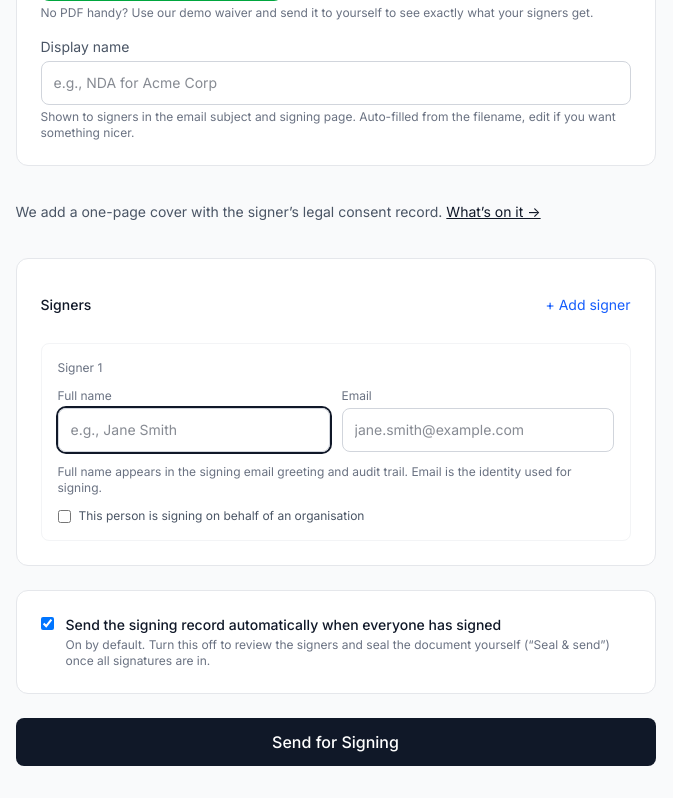
Scenario: CreateEnvelopePage — cover-page disclosure demoted (F-44.1 / AC-261) › collapse and re-expand keeps routing through the once-rail (no plain-channel leak)
(page scrolled)
Click the button "What’s on it →" at (493, 212), box left=446, top=190, right=541, bottom=234
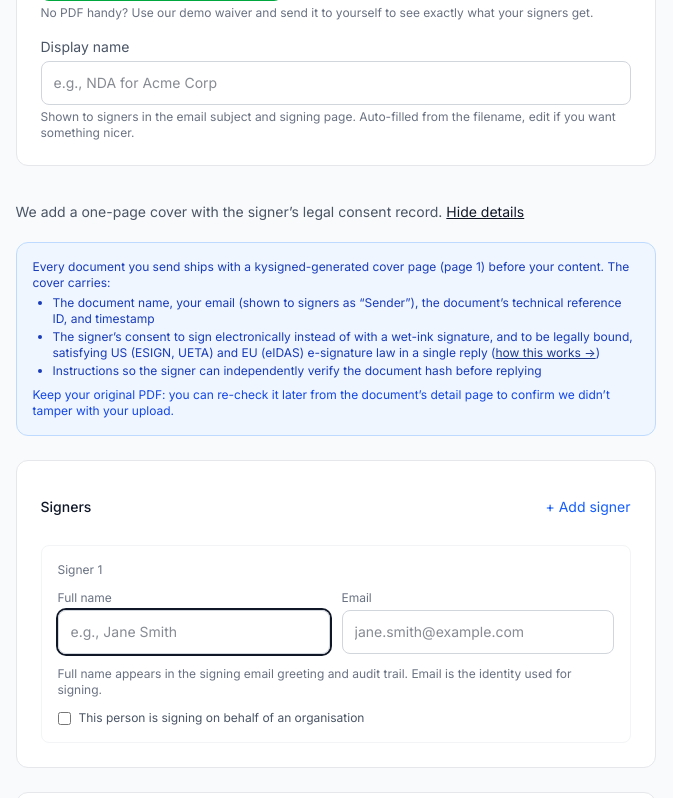
# Collapsed again: the affordance re-renders (aria-expanded false path).
Click the button with test id "cover-disclosure-toggle" at (485, 212), box left=446, top=190, right=524, bottom=234
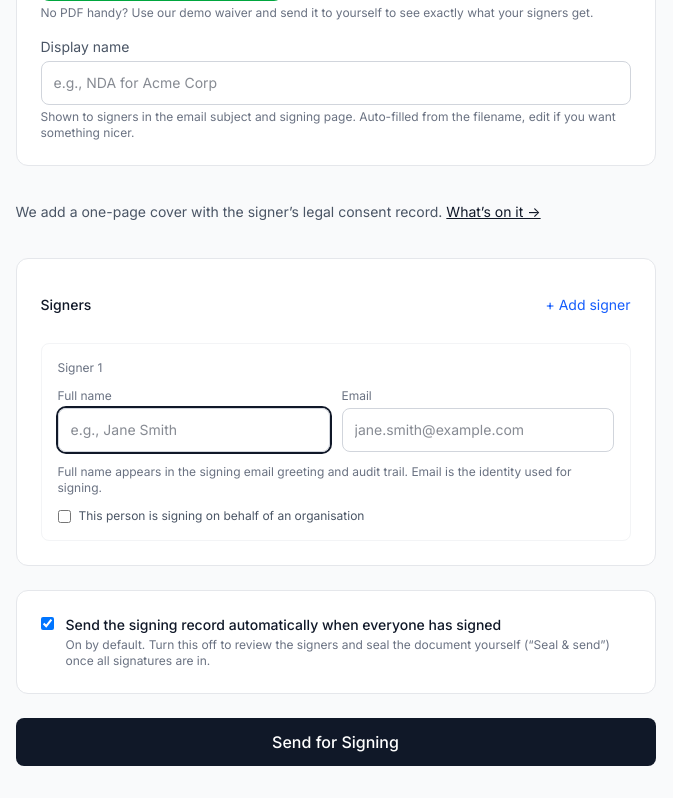
Click the button with test id "cover-disclosure-toggle" at (493, 212), box left=446, top=190, right=541, bottom=234
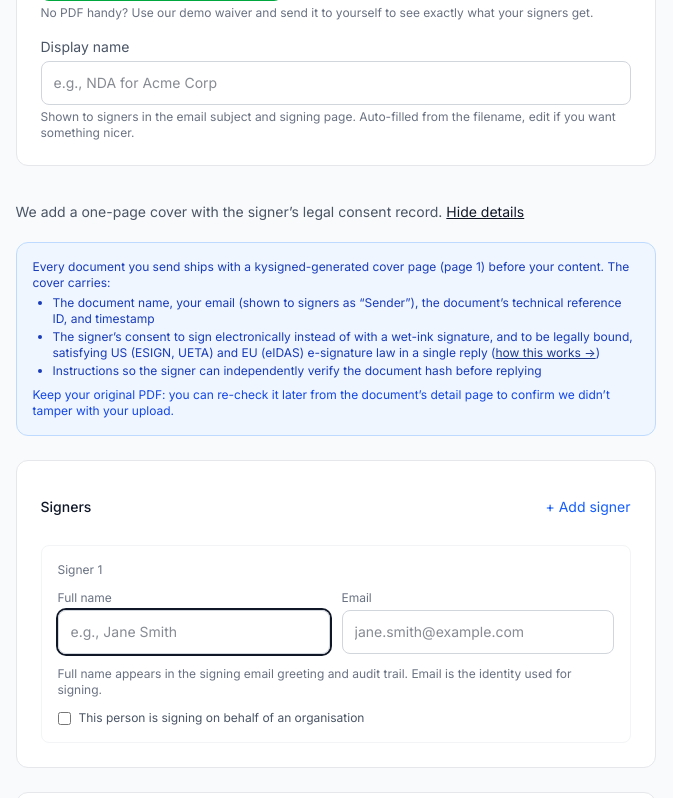
expect the text "cover page (page 1)" is shown: met, box left=32, top=259, right=629, bottom=290
